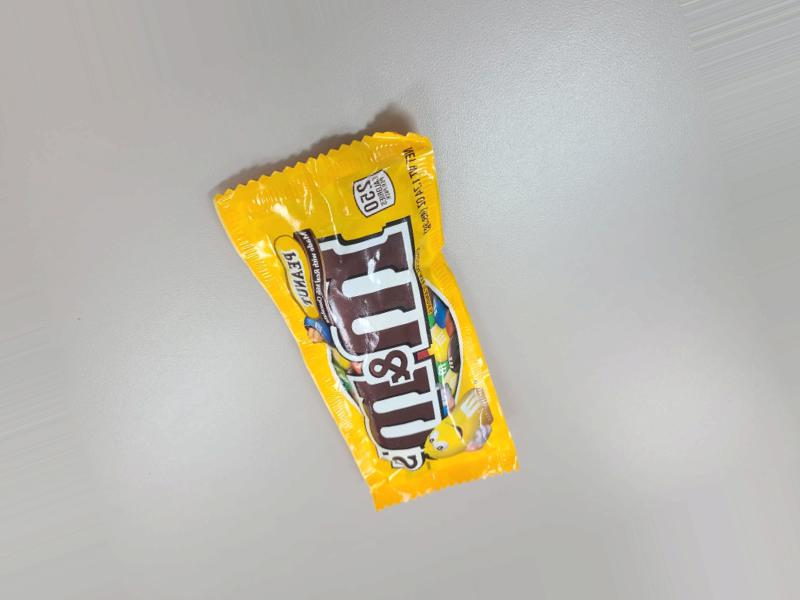m&m: (183, 73, 516, 547)
